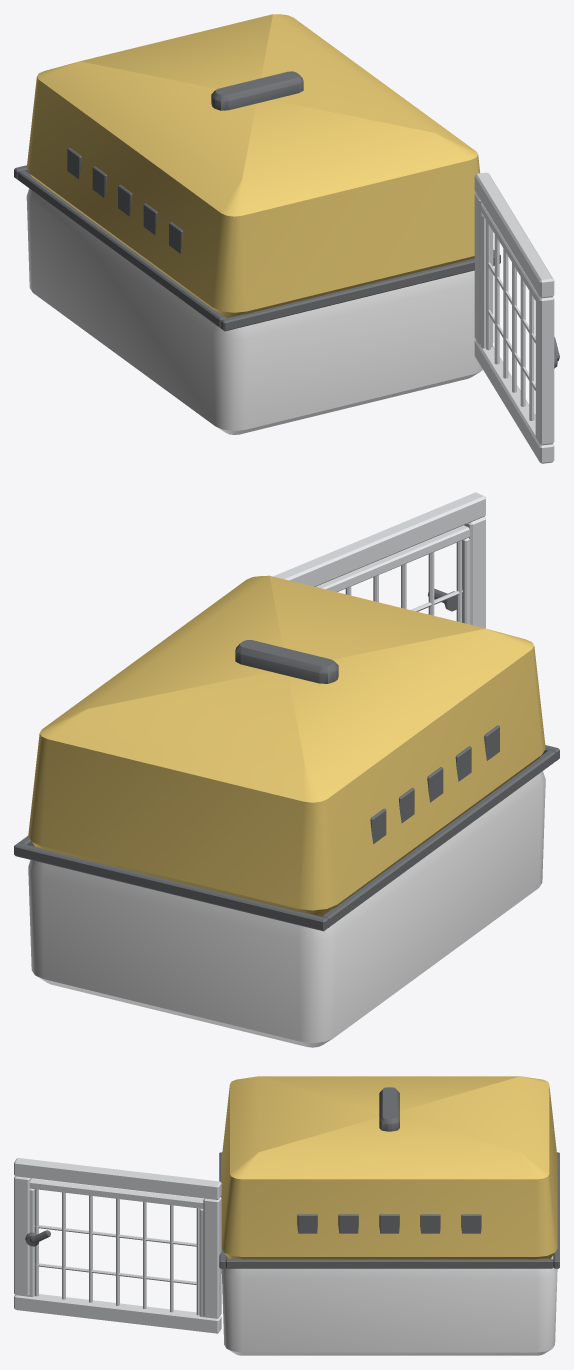
Rendered from clinic-and-veterinary-practice-animal-transport-crate--cfb18cfe__16823.glb.
The picture shows the model from 3 angles, top to bottom: view 1: azimuth 30°, elevation 25°; view 2: azimuth 150°, elevation 25°; view 3: azimuth 270°, elevation 25°; orthographic projection. The views are drawn at different scales.
Visible parts, largest first — view 1: animal-transport-crate-open, door; view 2: animal-transport-crate-open, door; view 3: animal-transport-crate-open, door.
Boxes of the visible parts, x1,y1,x2,y2 form: animal-transport-crate-open: (14,14,500,434); door: (474,172,554,463); animal-transport-crate-open: (14,575,559,1047); door: (273,492,485,628); animal-transport-crate-open: (219,1076,559,1355); door: (14,1158,221,1333).
Size of the model in its own units: 0.632 by 0.55 by 1.33.
